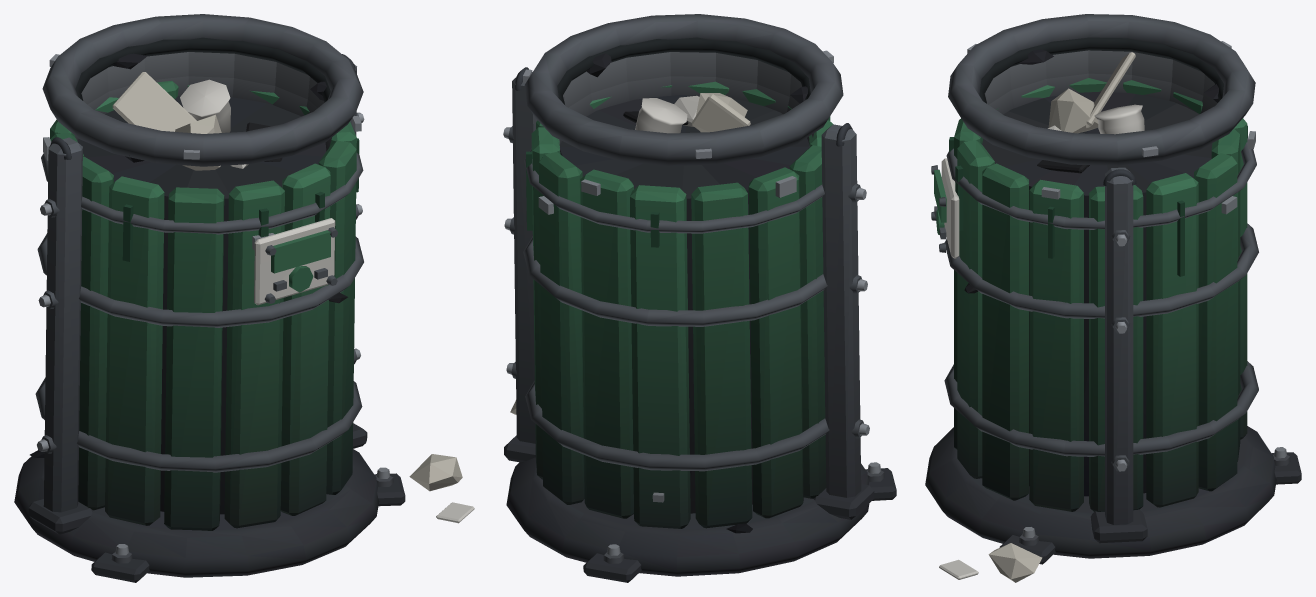
File: trash-bin-01.glb
3 renders of one model, left to right at view 1: azimuth 30°, elevation 25°; view 2: azimuth 150°, elevation 25°; view 3: azimuth 270°, elevation 25°, orthographic. The views are drawn at different scales.
Parts seen in each view (by area): view 1: trash_bin_01; view 2: trash_bin_01; view 3: trash_bin_01.
Boxes of the visible parts, x1,y1,x2,y2 form: trash_bin_01: (14, 14, 474, 582); trash_bin_01: (503, 14, 896, 582); trash_bin_01: (925, 14, 1301, 582).
Size of the model in its own units: 0.8425 by 0.899 by 0.7378.
